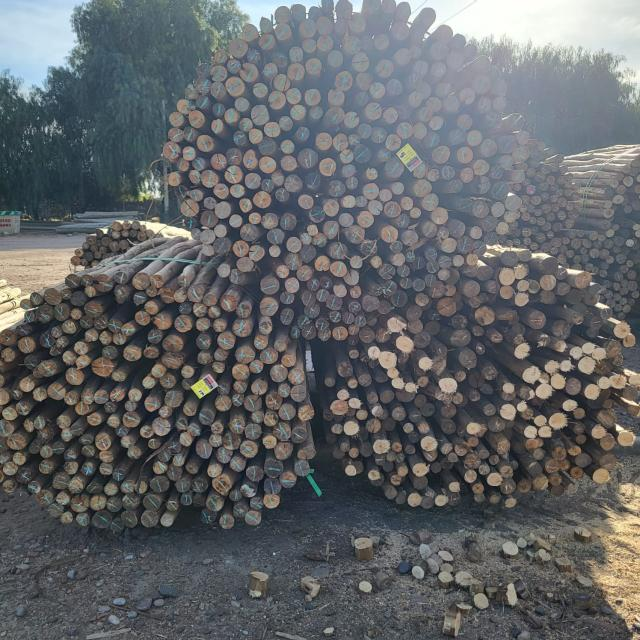package: (161, 0, 528, 341), (318, 248, 636, 516), (0, 273, 314, 530), (504, 136, 582, 250), (541, 230, 638, 315), (584, 149, 636, 249)
